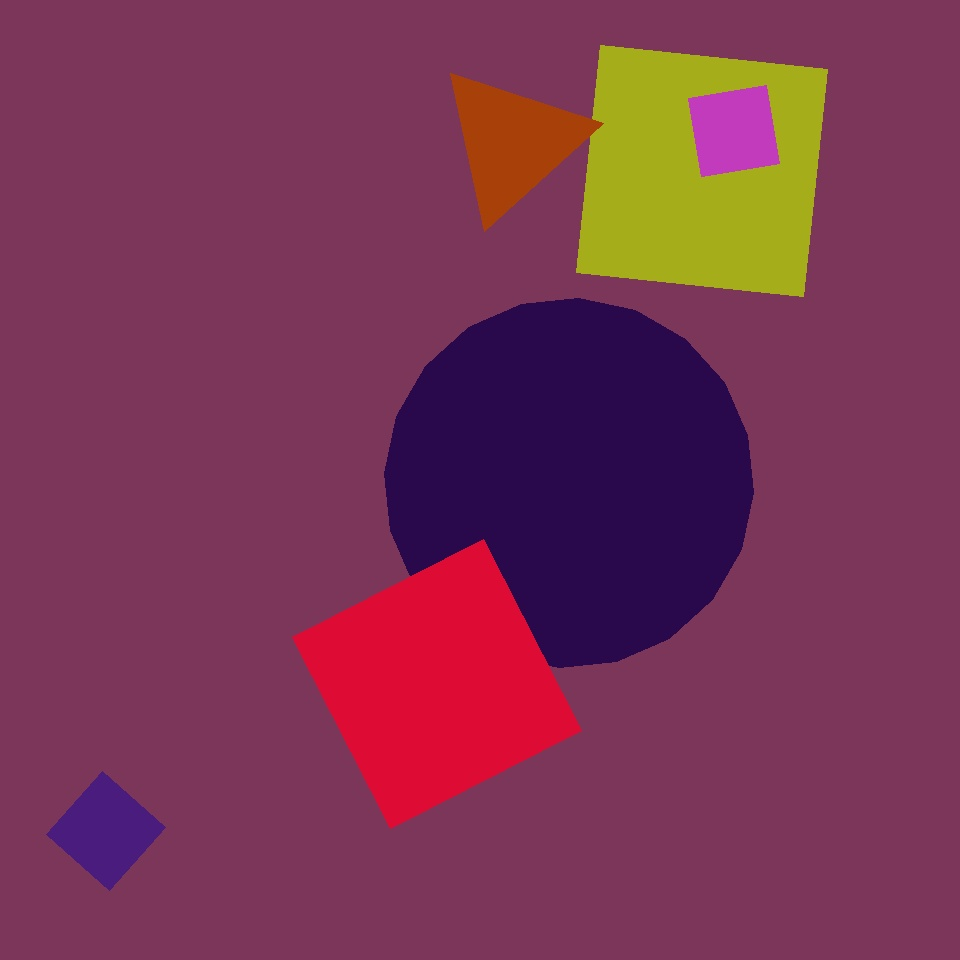circle: (124, 529, 306, 719), (392, 123, 541, 292), (436, 64, 590, 222)
square: (292, 540, 582, 828), (576, 46, 828, 296), (59, 775, 187, 903), (46, 772, 166, 890), (669, 193, 767, 291), (688, 85, 779, 176)
triangle: (384, 299, 754, 668), (738, 460, 932, 654)
